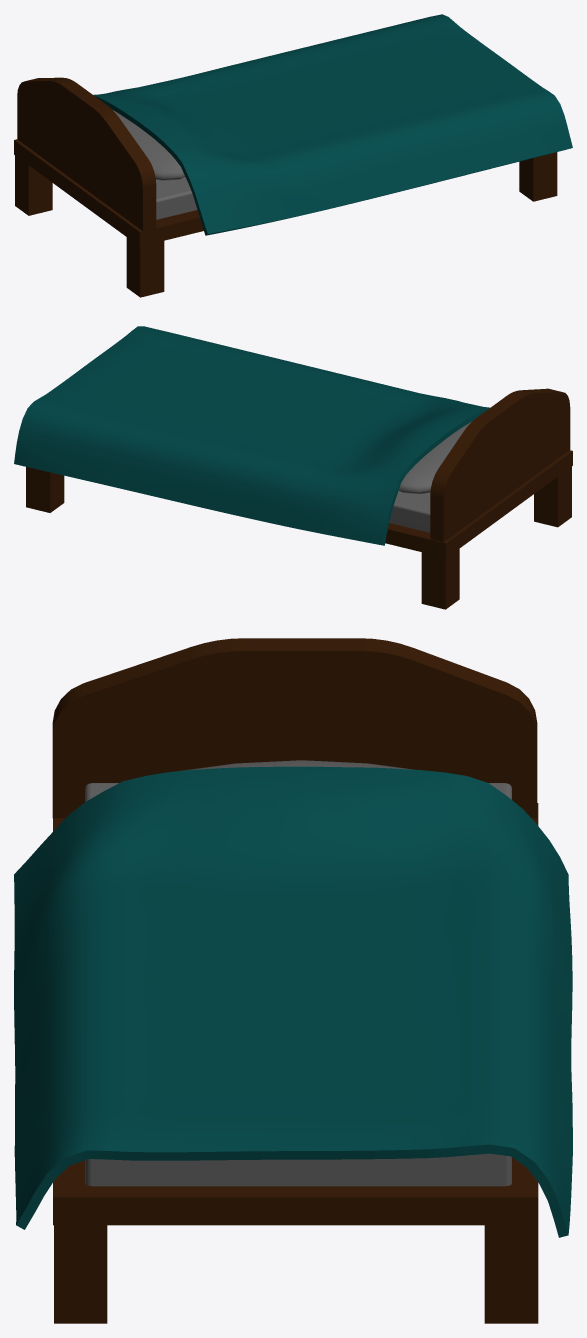
Rendered from Bed.dae.
The picture shows the model from 3 angles, top to bottom: view 1: azimuth 30°, elevation 25°; view 2: azimuth 150°, elevation 25°; view 3: azimuth 270°, elevation 25°; orthographic projection. The views are drawn at different scales.
Visible parts, largest first — view 1: pCube17; view 2: pCube17; view 3: pCube17.
Boxes of the visible parts, x1=… form: pCube17: x1=14, y1=14, x2=572, y2=297; pCube17: x1=14, y1=326, x2=572, y2=609; pCube17: x1=14, y1=638, x2=572, y2=1323.
Bounding box in the file's own units: 93.61 × 32.27 × 55.43.
